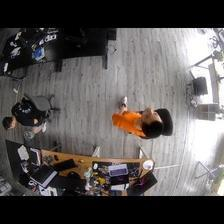normal: (110, 94, 164, 150), (2, 91, 54, 137)
